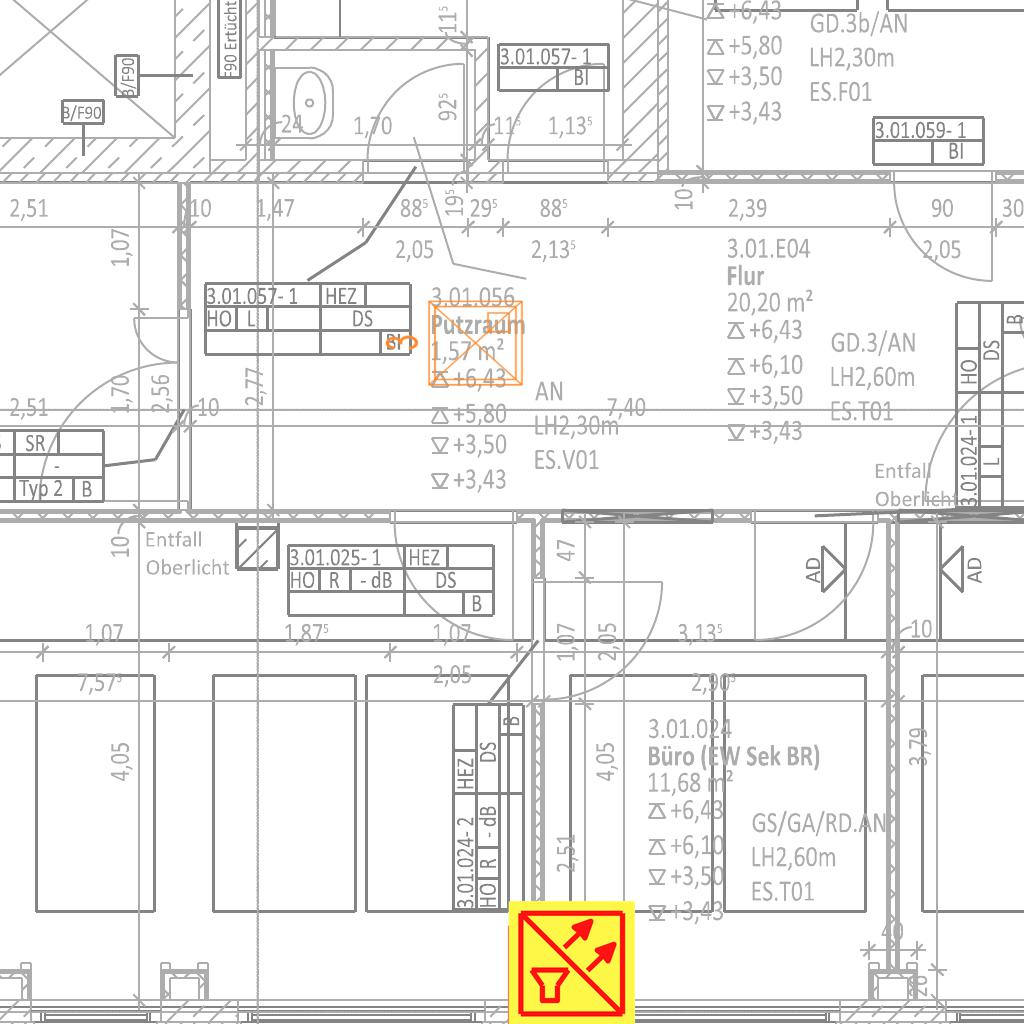Einbaudownlights_LED_Konferenzraeume: (380, 293, 530, 397)
OKW_Multisensormelder_(Kombination_optischer_Rauch-Kahlenmonoxid_Waerme-Melder): (506, 898, 638, 1024)
